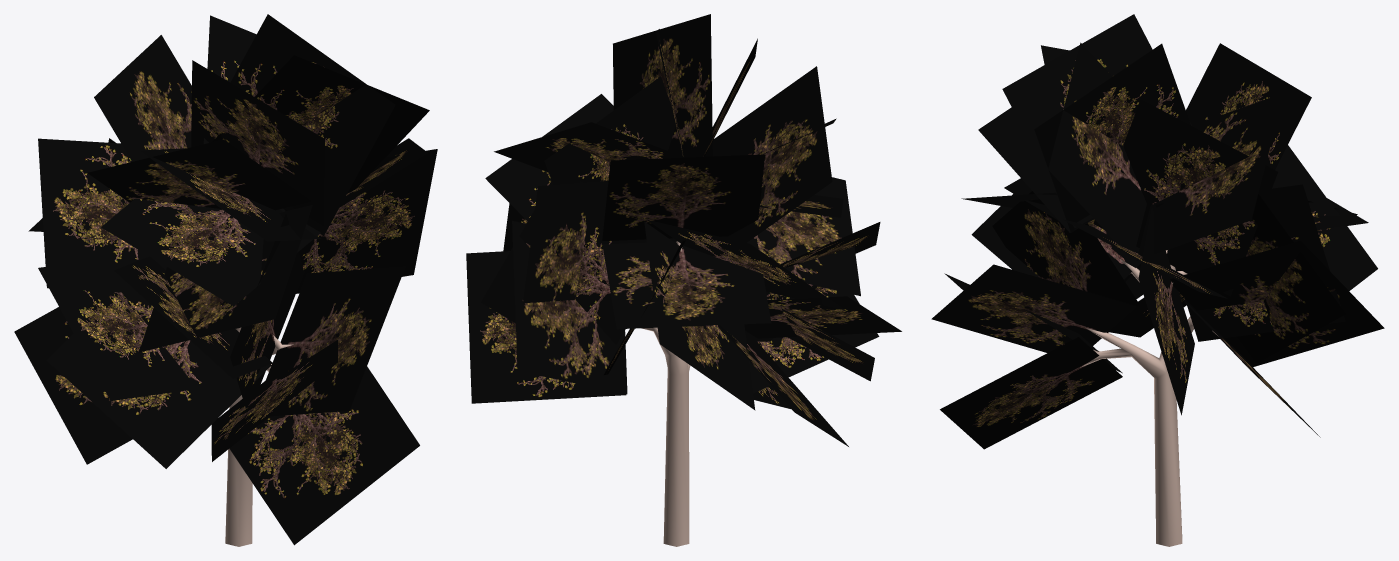
The model's file is tree7.glb.
3 renders of one model, left to right at view 1: azimuth 30°, elevation 25°; view 2: azimuth 150°, elevation 25°; view 3: azimuth 270°, elevation 25°, orthographic. The views are drawn at different scales.
Bounding box in the file's own units: 5.47 × 7.09 × 5.73.
2 materials, 1 textured.
